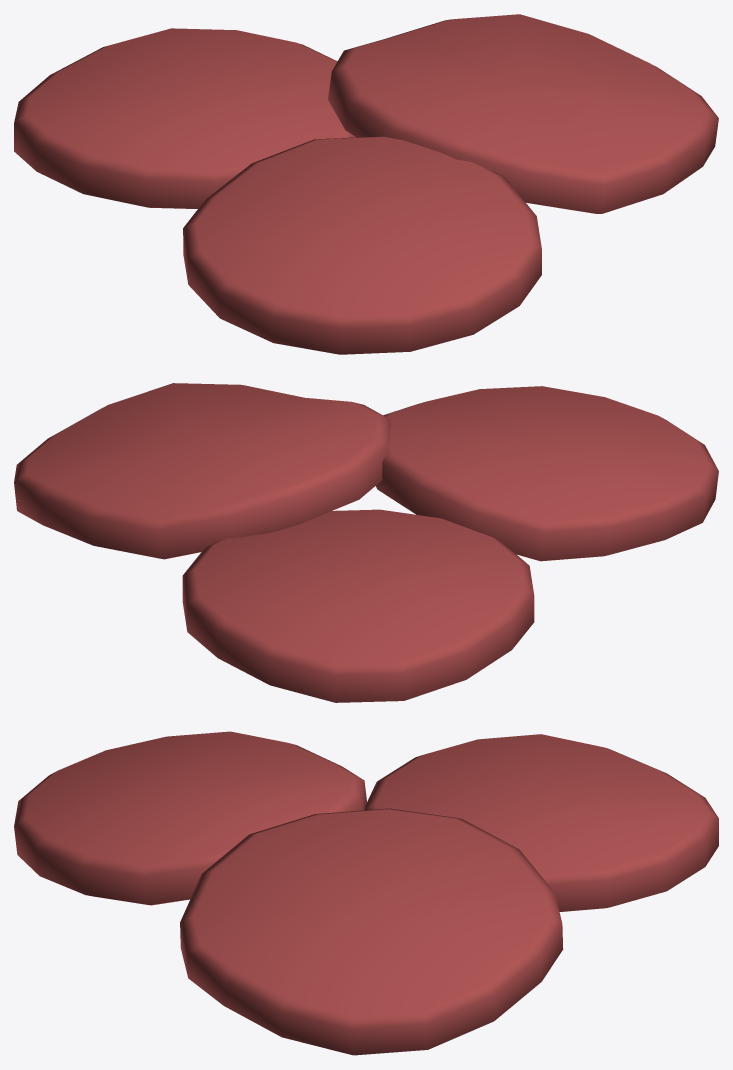
The model's file is M_Food_Tomato_001.fbx.
3 renders of one model, top to bottom at view 1: azimuth 30°, elevation 25°; view 2: azimuth 150°, elevation 25°; view 3: azimuth 270°, elevation 25°, orthographic. The views are drawn at different scales.
Visible parts, largest first — view 1: Tomato; view 2: Tomato; view 3: Tomato.
Boxes of the visible parts, bbox=[...] form: Tomato: bbox=[14, 14, 718, 354]; Tomato: bbox=[14, 383, 718, 702]; Tomato: bbox=[14, 731, 718, 1055].
Bounding box in the file's own units: 55.26 × 9 × 59.43.
